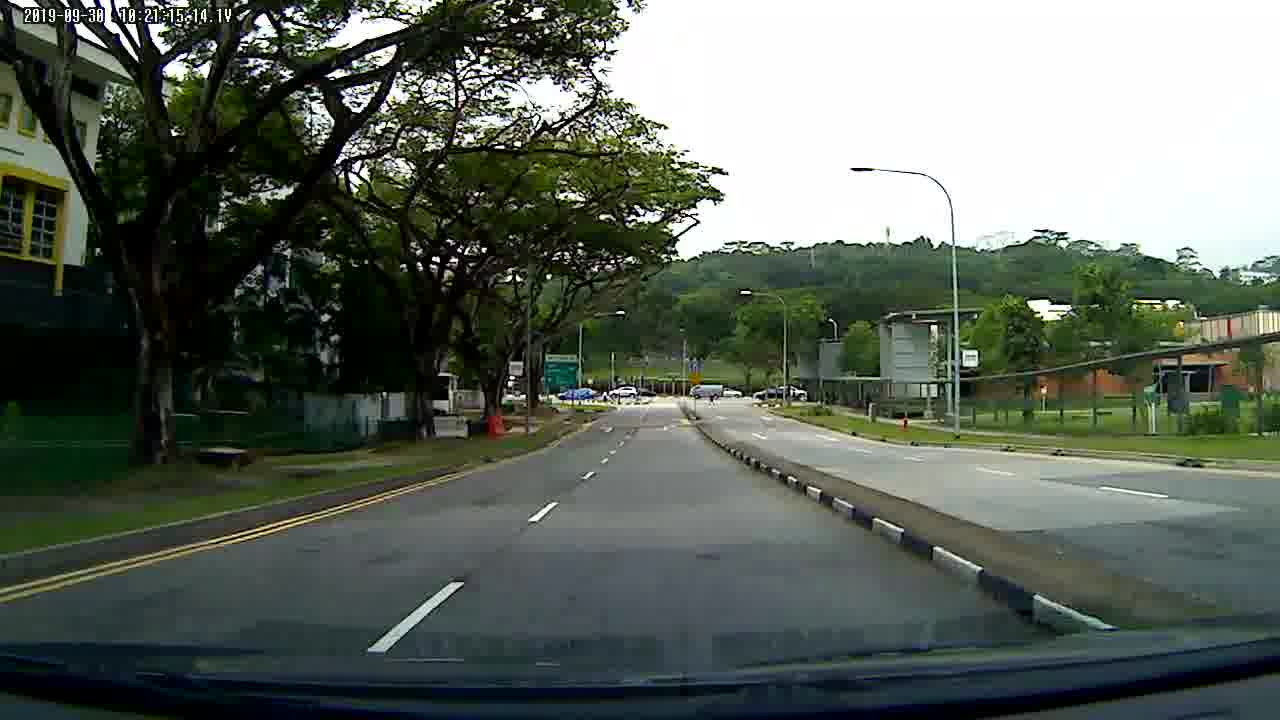car: (605, 385, 639, 400)
